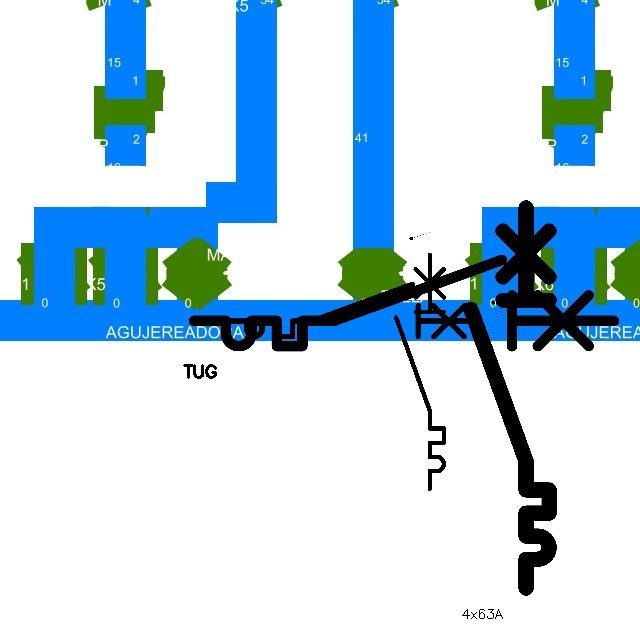interruptor_termomagnetico: (183, 249, 625, 357), (461, 198, 559, 598), (221, 278, 486, 343), (390, 248, 450, 494)
